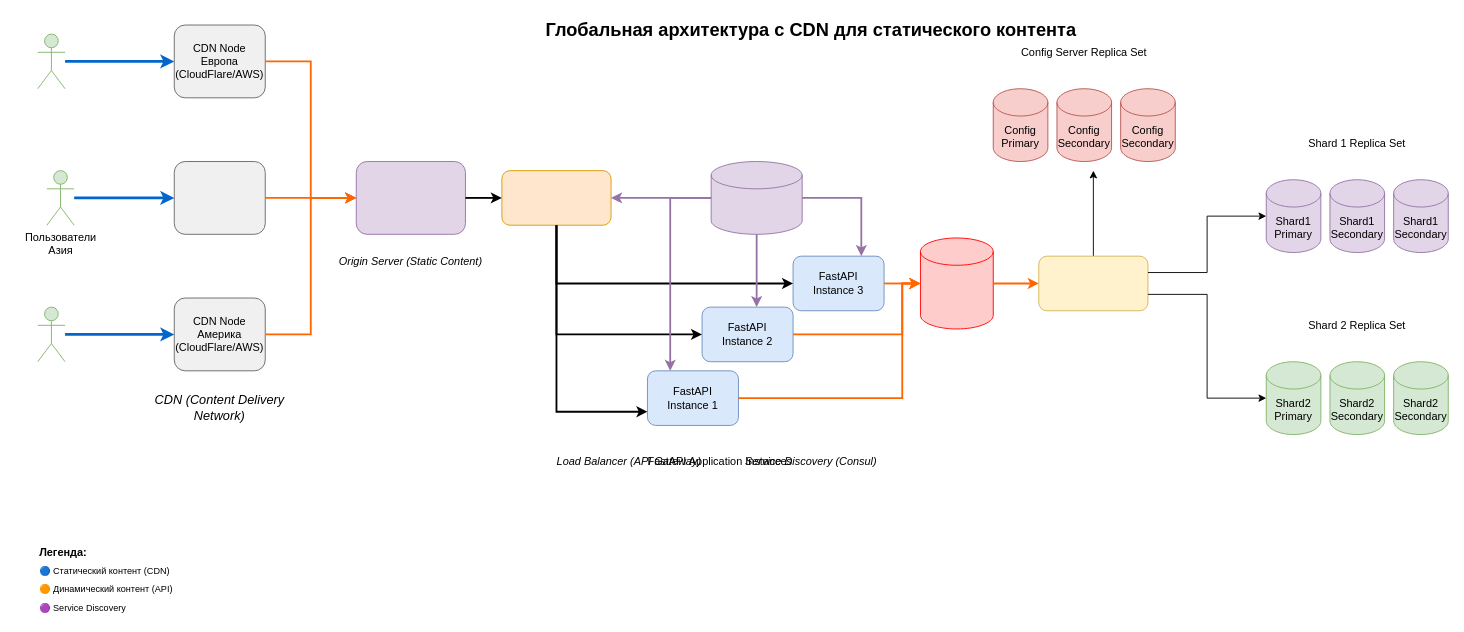
This 1464x632 diagram has some shape labels left out. The shapes that lost their labels are listed below. From the top down, each one's box as (x1, y1, x2, y2) in pixels, then its label:
(37, 33, 65, 89): Пользователи Европа
(173, 161, 265, 234): CDN Node Азия (CloudFlare/AWS)
(355, 161, 465, 234): Origin Server (Static Content) Images, CSS, JS
(501, 170, 611, 225): API Gateway (Nginx/HAProxy)
(710, 161, 802, 234): Consul Service Discovery
(920, 237, 993, 329): Redis Cache
(1038, 255, 1148, 311): MongoDB Router (mongos)
(37, 306, 65, 362): Пользователи Америка
